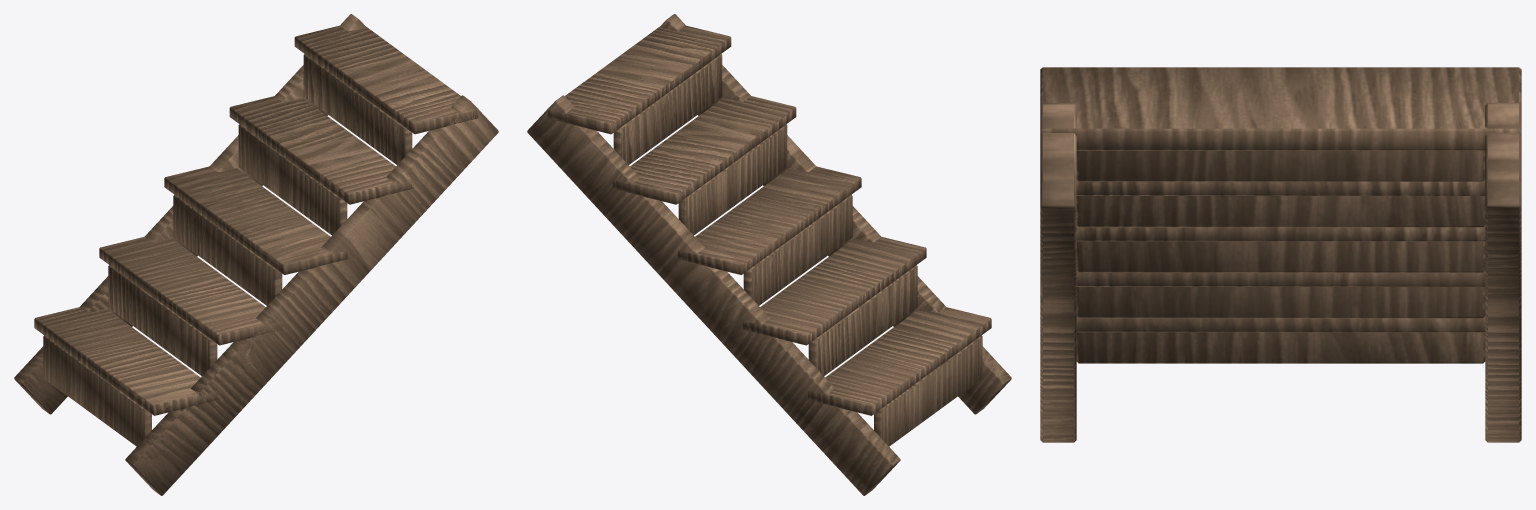
The model's file is wooden_stairs.glb.
3 views of the same model, side by side, from view 1: azimuth 30°, elevation 25°; view 2: azimuth 150°, elevation 25°; view 3: azimuth 270°, elevation 25° (orthographic). The views are drawn at different scales.
Visible parts, largest first — view 1: wooden_stairs; view 2: wooden_stairs; view 3: wooden_stairs.
Boxes of the visible parts, bbox=[...] form: wooden_stairs: bbox=[14, 14, 498, 495]; wooden_stairs: bbox=[527, 14, 1011, 495]; wooden_stairs: bbox=[1040, 67, 1521, 442].
Size of the model in its own units: 1.4 by 1.17 by 0.8.
Materials: 1 (1 with a texture image).
